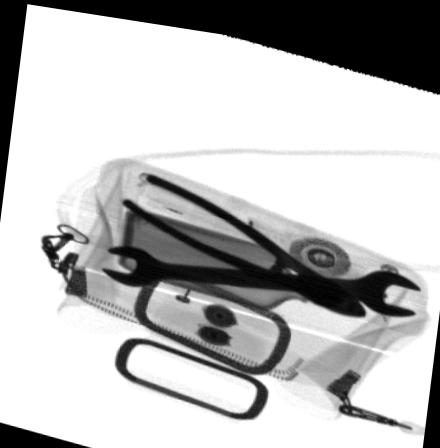Pliers: (113, 165, 365, 307)
Wrench: (100, 240, 420, 303)
